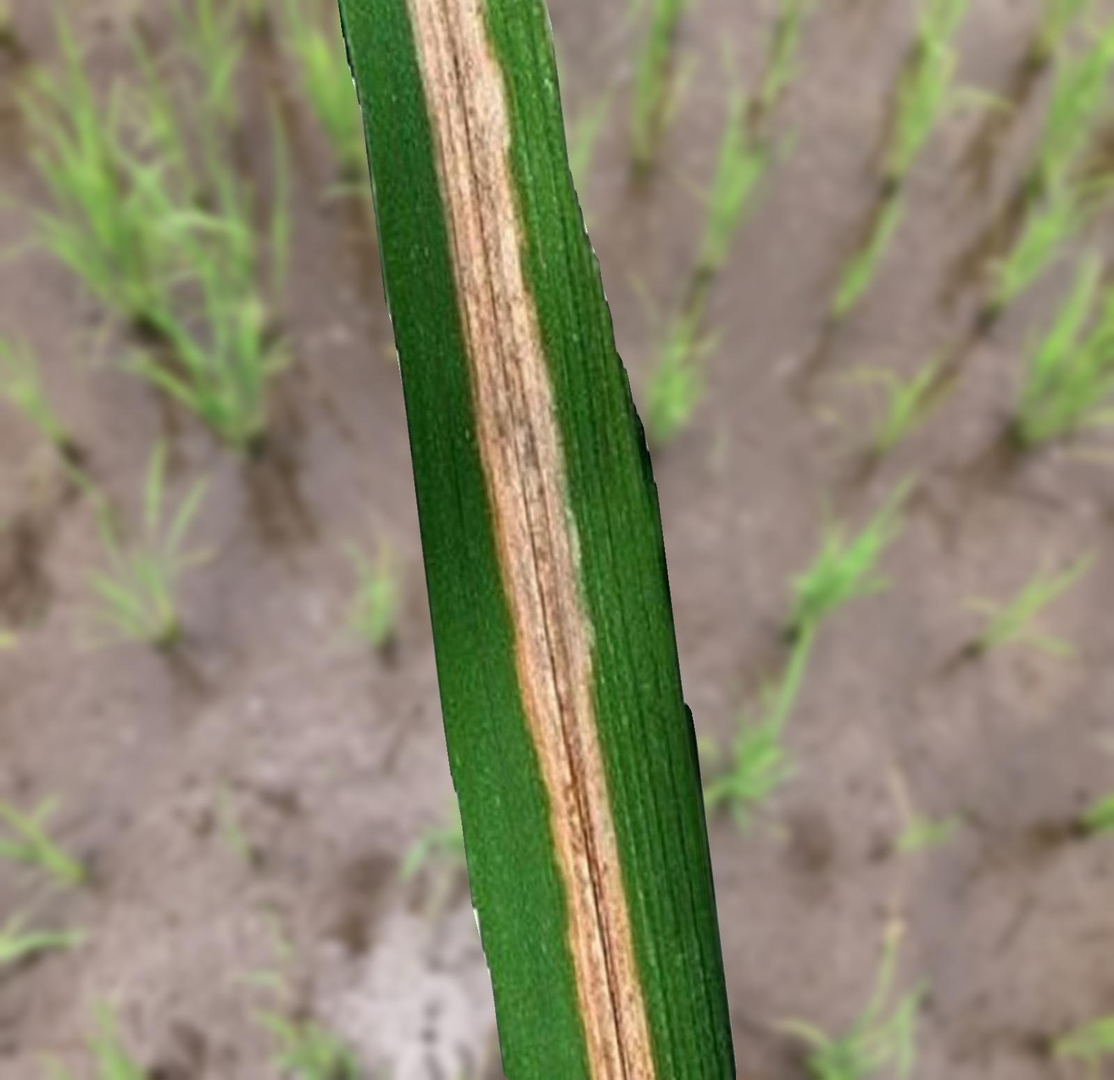BLB: (404, 0, 655, 1079)
LEAF: (338, 0, 736, 1079)
